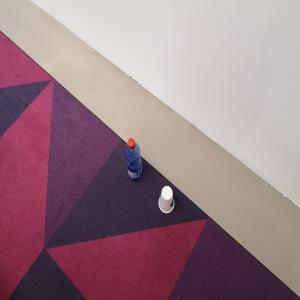Cup: (159, 187, 176, 215)
Plastic-bottle: (126, 139, 144, 183)
